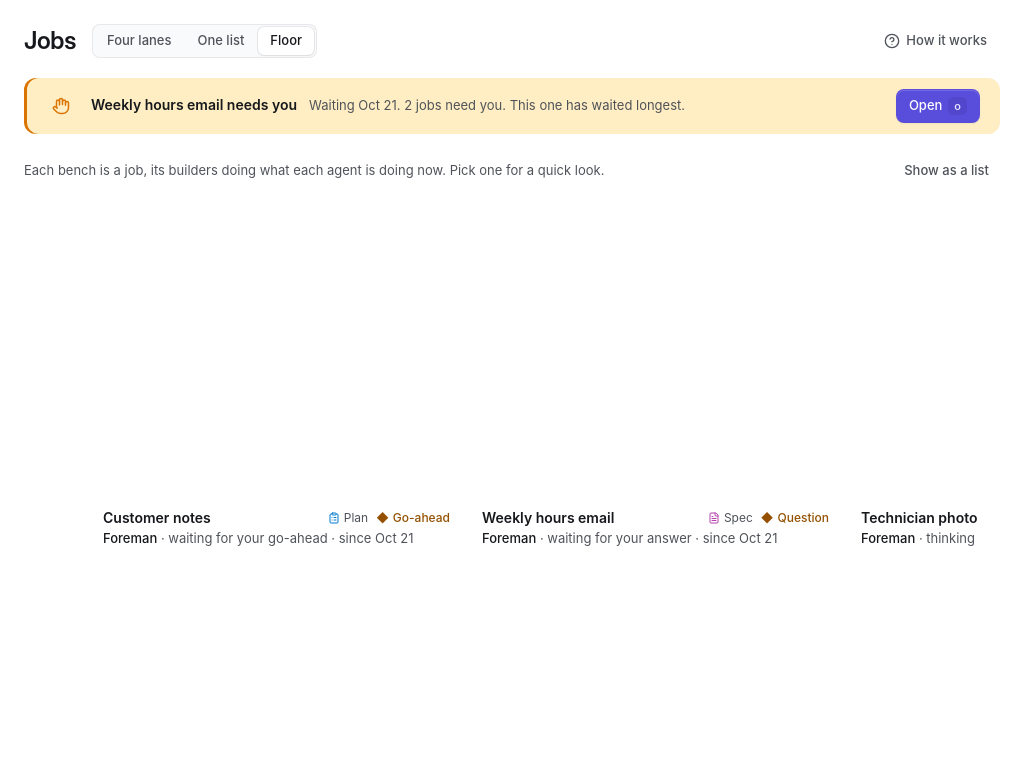
Test case: Jobs › Floor (Play full only) shows the 3D floor, and a click on a bench takes the quick look
Step 1. Click the link "Customer notes" → (157, 518), box x1=103 y1=509 x2=211 y2=526
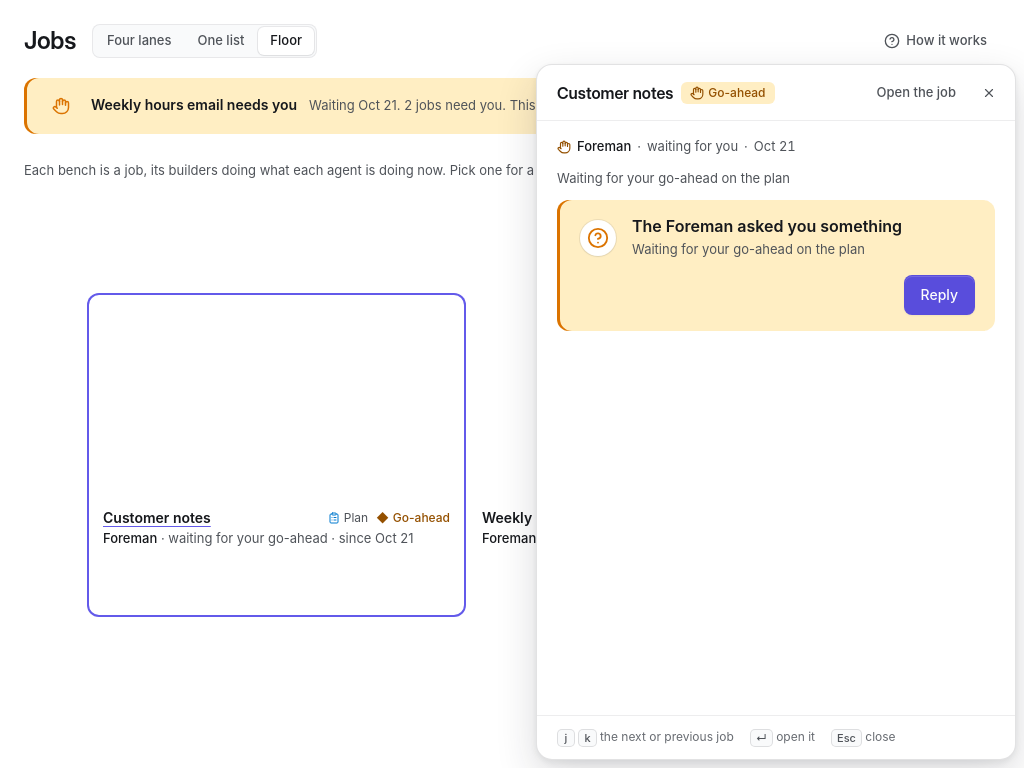
expect the dialog named "Customer notes: a quick look" is shown: met, box x1=536 y1=64 x2=1016 y2=760
The switch goes back to the lanes, and remembers it.
Step 2. Click the radio button labelled "Four lanes" → (139, 41), box x1=95 y1=27 x2=184 y2=55
(page scrolled)
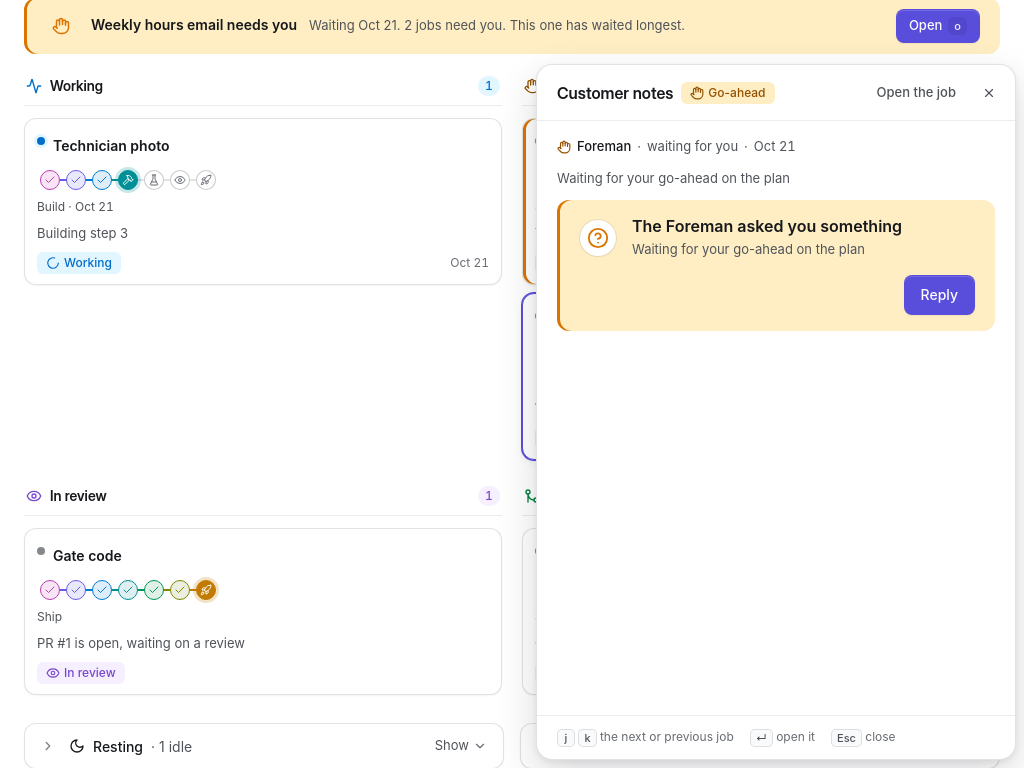
expect the element with class "jobs-board" is shown: met
